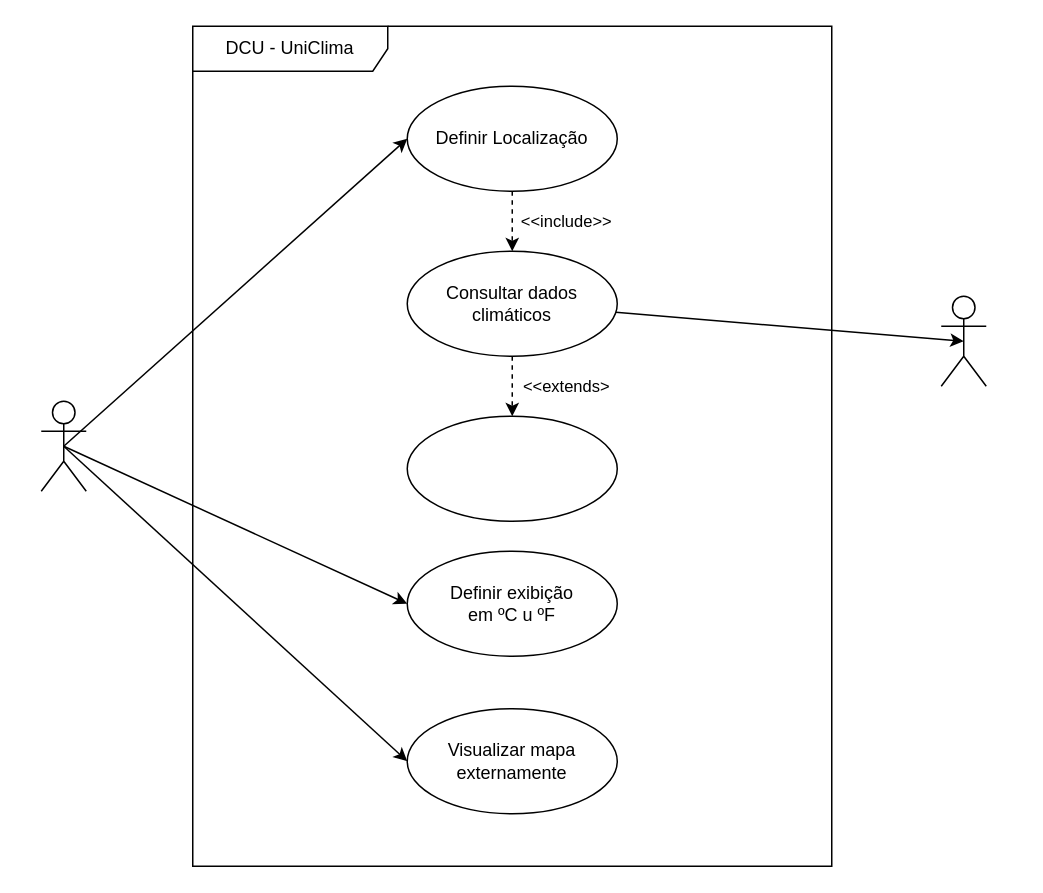
The diagram is 1043 pixels wide and 893 high, and some of its shapes have lost their labels. Here are the shapes that lost their labels. From the top down, the box of each, then its label:
(940, 295, 986, 386): API de Clima
(40, 400, 86, 491): Consultor Climático
(406, 415, 617, 521): Exibir dados climáticos
